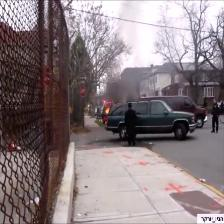fire: (104, 93, 114, 118)
